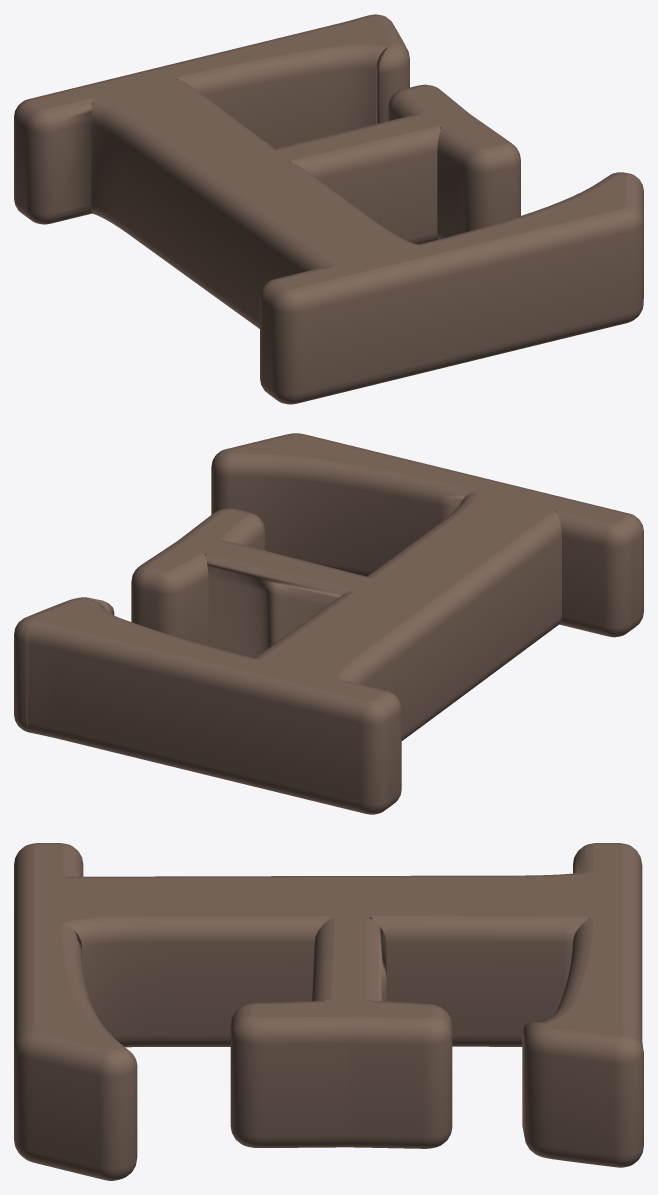
File: letter_e.gltf
3 views of the same model, one above another, from view 1: azimuth 30°, elevation 25°; view 2: azimuth 150°, elevation 25°; view 3: azimuth 270°, elevation 25° (orthographic). The views are drawn at different scales.
Parts seen in each view (by area): view 1: Text; view 2: Text; view 3: Text.
Boxes of the visible parts, left/top/right/bottom form: Text: left=14, top=14, right=643, bottom=404; Text: left=14, top=433, right=643, bottom=814; Text: left=14, top=843, right=643, bottom=1180.
Bounding box in the file's own units: 0.5173 × 0.14 × 0.619.
